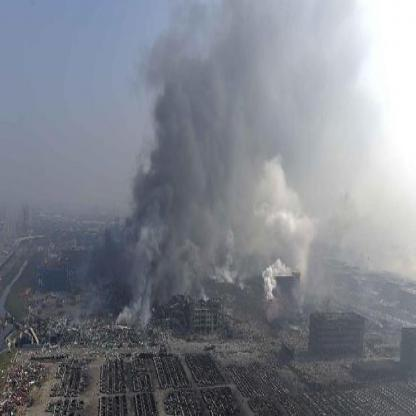smoke: (212, 28, 263, 272), (164, 58, 215, 218), (264, 150, 312, 285), (158, 218, 210, 293), (119, 214, 154, 310), (130, 145, 167, 213)
